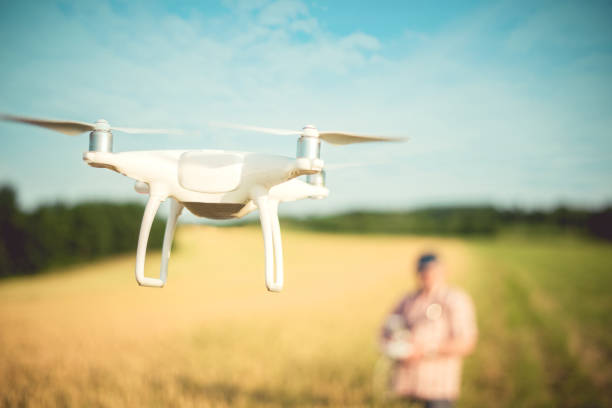Drone: (0, 103, 408, 296)
